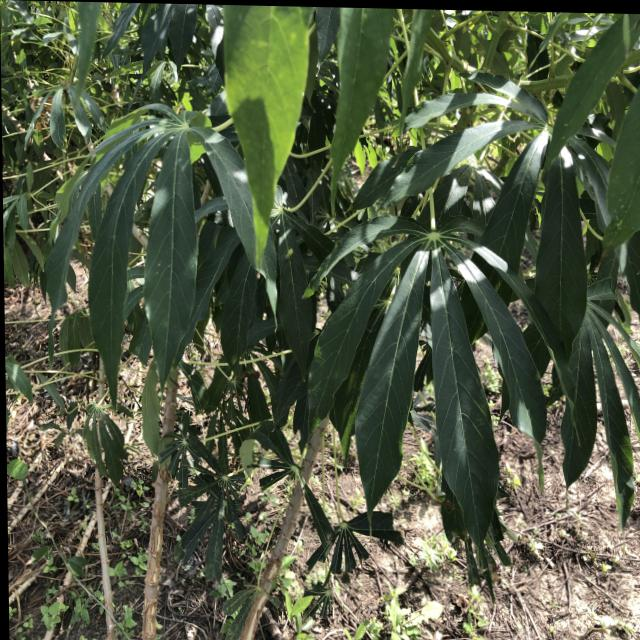Mosca: (574, 151, 589, 173), (280, 244, 296, 264), (261, 307, 272, 328)
